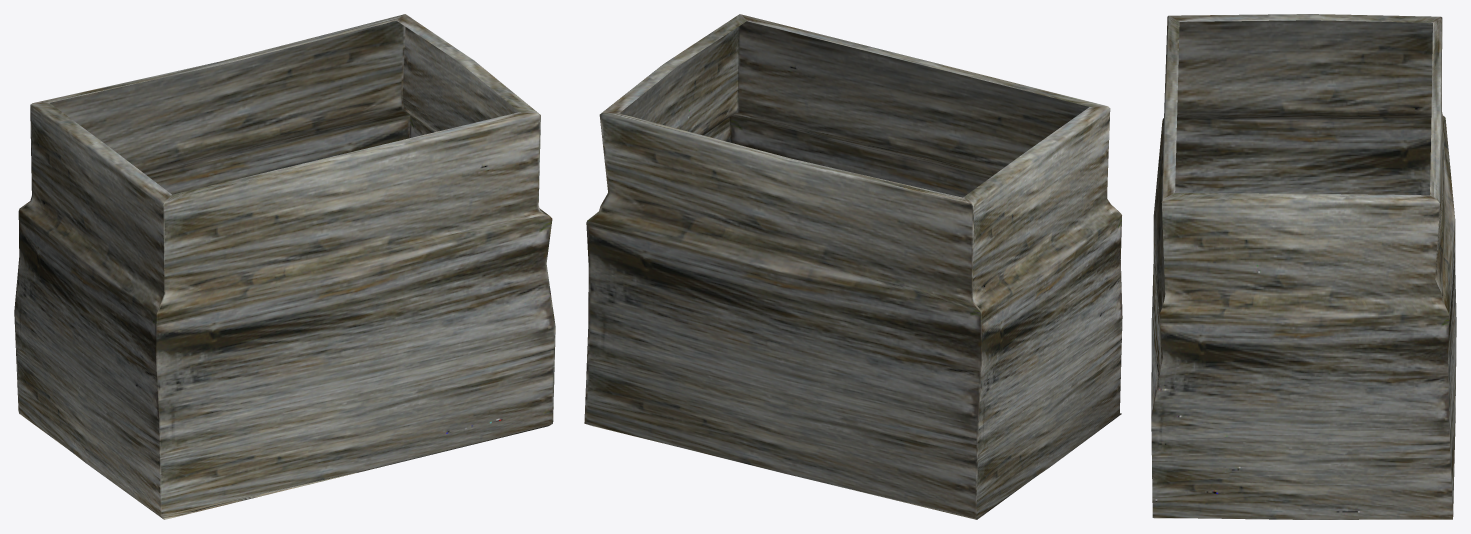
File: PalletStack_payload_foil.fbx
3 views of the same model, side by side, from view 1: azimuth 30°, elevation 25°; view 2: azimuth 150°, elevation 25°; view 3: azimuth 270°, elevation 25° (orthographic).
Parts seen in each view (by area): view 1: Foil_LOD0; view 2: Foil_LOD0; view 3: Foil_LOD0.
Part boxes in pixels (x1,y1,x2,y2): Foil_LOD0: (14, 14, 555, 519); Foil_LOD0: (584, 14, 1122, 519); Foil_LOD0: (1151, 14, 1456, 519).
Size of what is drawn, in the model's own units: 119 by 89.39 by 77.86.
